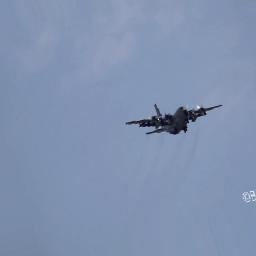Airplane: (123, 100, 223, 137)
